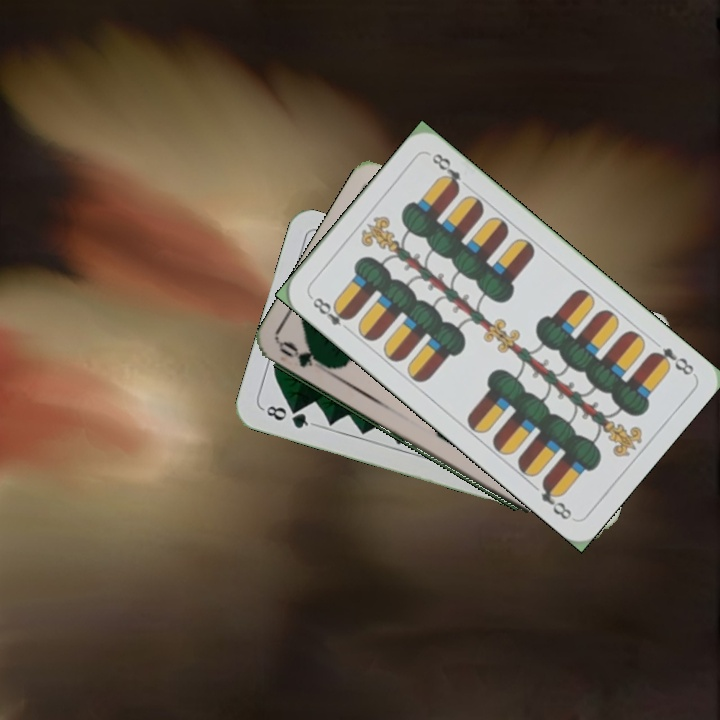E8: (306, 291, 355, 335), (646, 343, 697, 378)
G8: (259, 401, 317, 431)
GO: (275, 337, 334, 372)
